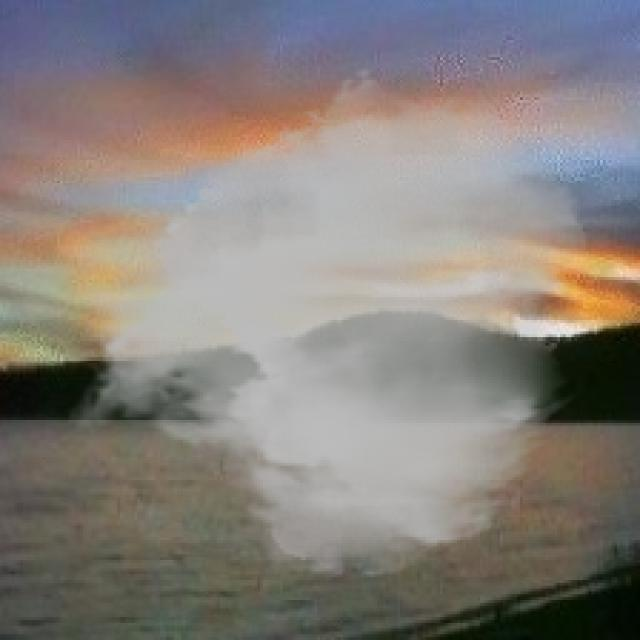Smoke: (66, 66, 592, 583)
